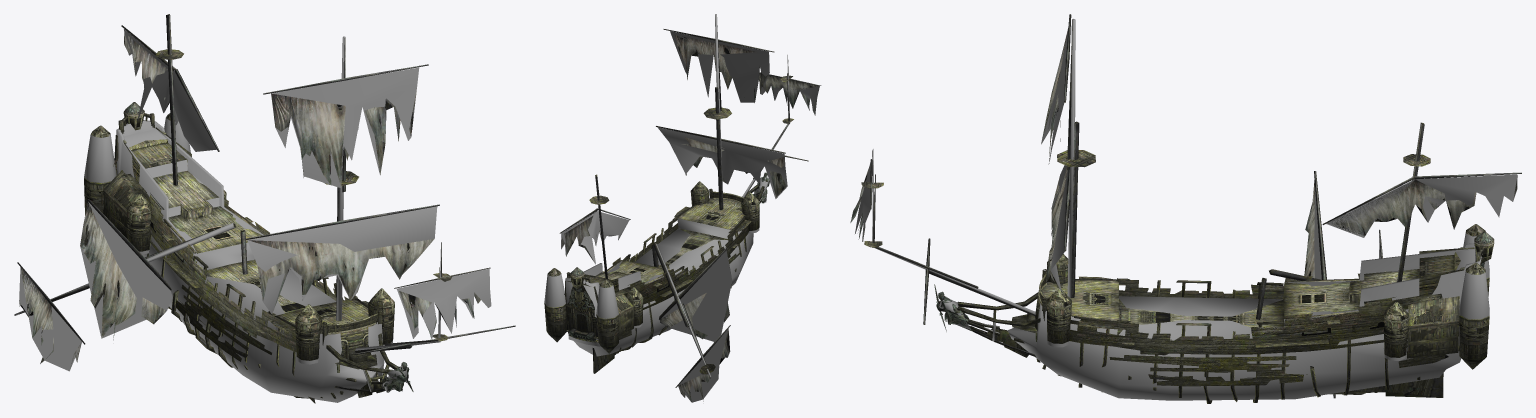
The model's file is U_F_Ship_05.fbx.
3 renders of one model, left to right at view 1: azimuth 30°, elevation 25°; view 2: azimuth 150°, elevation 25°; view 3: azimuth 270°, elevation 25°, orthographic. The views are drawn at different scales.
Visible parts, largest first — view 1: U_F_Ship_04_Fakeshadow, U_F_Ship_04, U_F_Ship_04_Sail; view 2: U_F_Ship_04_Fakeshadow, U_F_Ship_04, U_F_Ship_04_Sail; view 3: U_F_Ship_04, U_F_Ship_04_Fakeshadow, U_F_Ship_04_Sail.
Part boxes in pixels (x1,y1,x2,y2): U_F_Ship_04_Fakeshadow: (14, 29, 491, 402); U_F_Ship_04: (17, 14, 515, 403); U_F_Ship_04_Sail: (19, 29, 480, 368); U_F_Ship_04_Fakeshadow: (544, 14, 819, 402); U_F_Ship_04: (544, 25, 821, 387); U_F_Ship_04_Sail: (561, 31, 818, 401); U_F_Ship_04: (861, 14, 1521, 403); U_F_Ship_04_Fakeshadow: (850, 19, 1517, 400); U_F_Ship_04_Sail: (850, 28, 1517, 282).
Size of the model in its own units: 0.6113 by 0.9034 by 1.31.
Materials: 2 (1 with a texture image).
